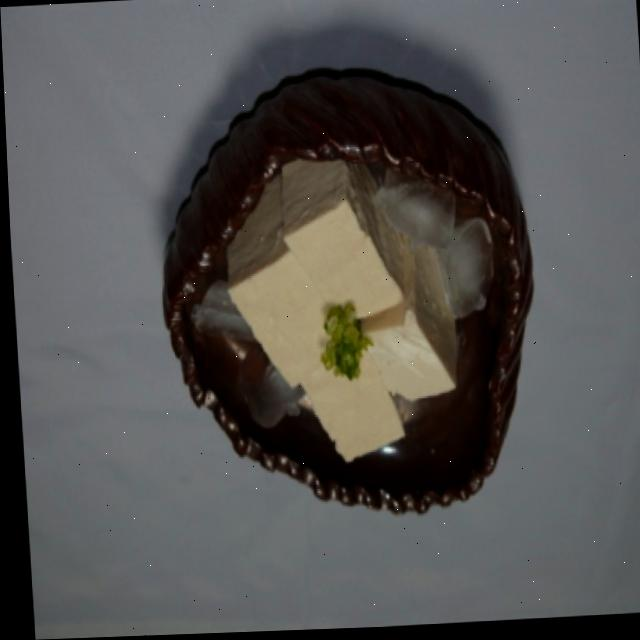豆腐料理: (214, 161, 461, 471)
